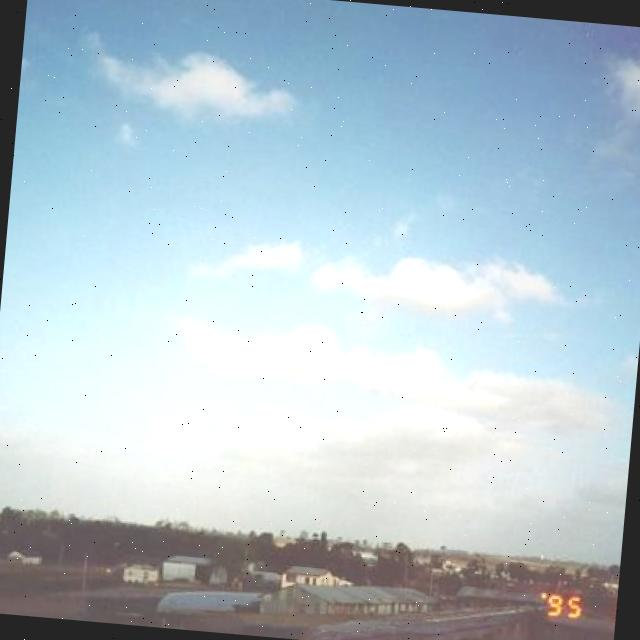St: (183, 232, 582, 356)
